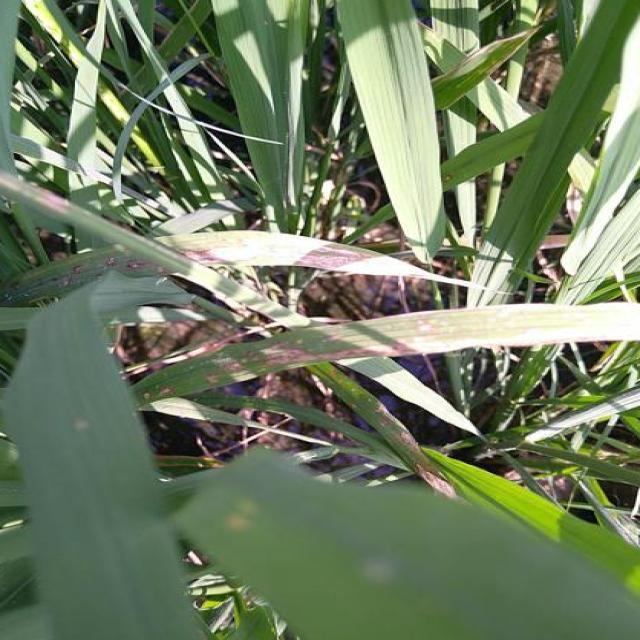Leaf Streak: (132, 303, 640, 402), (162, 230, 507, 295), (326, 369, 469, 506), (430, 24, 544, 112), (0, 251, 156, 307)
